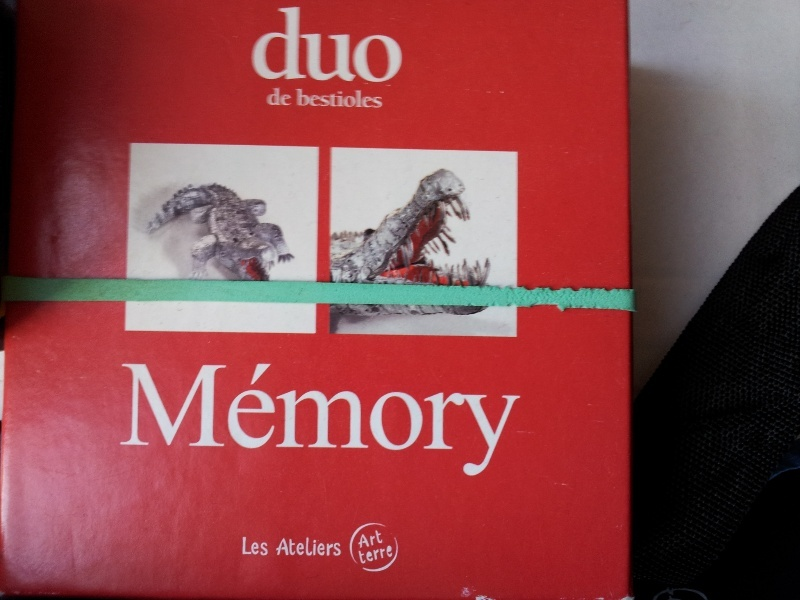text: (113, 352, 128, 484), (129, 352, 144, 484), (145, 352, 160, 484), (161, 352, 176, 484), (177, 352, 192, 484), (193, 352, 208, 484), (209, 352, 224, 484), (225, 352, 240, 484), (241, 352, 256, 484), (257, 352, 272, 484), (273, 352, 288, 484), (289, 352, 304, 484), (305, 352, 320, 484), (321, 352, 336, 484), (337, 352, 352, 484), (353, 352, 368, 484), (369, 352, 384, 484), (385, 352, 400, 484), (401, 352, 416, 484), (417, 352, 432, 484), (433, 352, 448, 484), (449, 352, 464, 484), (465, 352, 480, 484), (481, 352, 496, 484), (497, 352, 512, 484), (513, 352, 528, 484), (257, 6, 272, 90), (273, 6, 288, 90), (289, 6, 304, 90), (305, 6, 320, 90), (321, 6, 336, 90), (337, 6, 352, 90), (353, 6, 368, 90), (369, 6, 384, 90), (385, 6, 400, 90), (245, 6, 256, 90), (401, 6, 407, 90), (369, 87, 385, 111), (369, 527, 384, 552), (305, 87, 320, 111), (321, 87, 336, 111), (337, 87, 352, 111), (353, 87, 368, 111), (369, 543, 384, 566), (273, 86, 288, 108), (241, 536, 256, 556), (289, 537, 304, 557), (305, 537, 320, 557), (321, 537, 336, 557), (356, 527, 368, 552), (257, 536, 269, 556), (358, 543, 368, 566), (296, 87, 304, 111), (385, 543, 393, 566), (279, 537, 288, 557), (289, 86, 295, 108), (529, 352, 530, 484), (337, 537, 342, 557), (269, 86, 272, 108)
